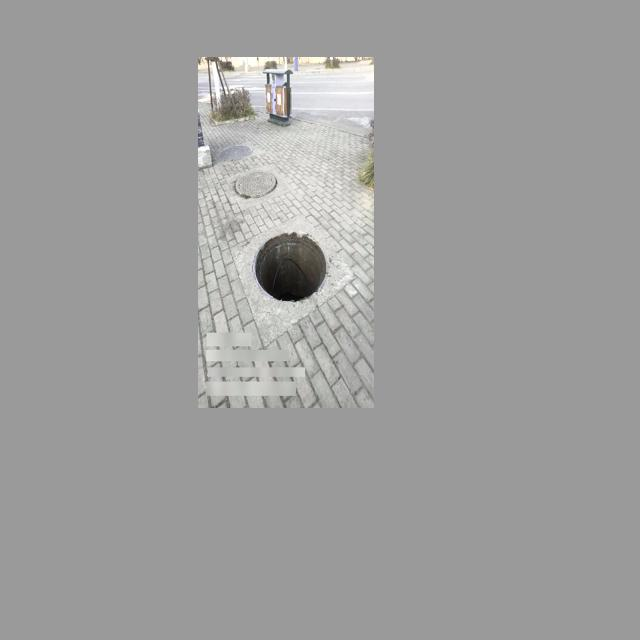good: (234, 168, 276, 199), (217, 143, 251, 162)
lose: (252, 230, 329, 303)
